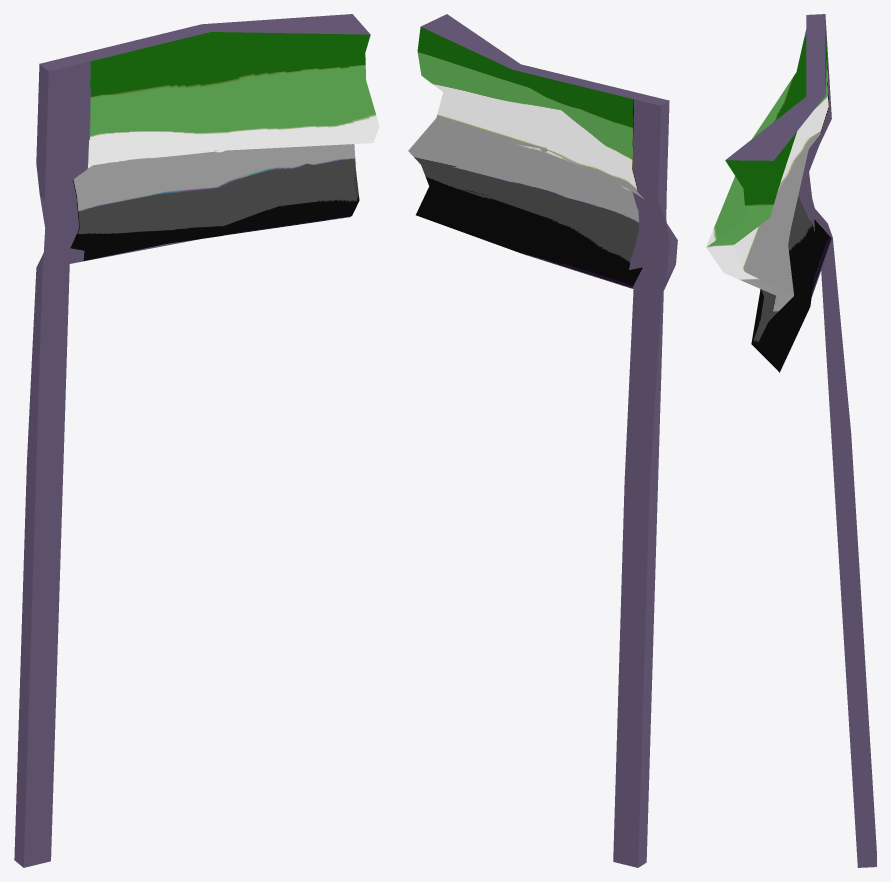
Rendered from aroprideflag.glb.
3 renders of one model, left to right at view 1: azimuth 30°, elevation 25°; view 2: azimuth 150°, elevation 25°; view 3: azimuth 270°, elevation 25°, orthographic. The views are drawn at different scales.
Parts seen in each view (by area): view 1: Cube; view 2: Cube; view 3: Cube.
Boxes of the visible parts, x1,y1,x2,y2 form: Cube: (14, 14, 379, 867); Cube: (408, 14, 677, 867); Cube: (706, 14, 876, 867).
Bounding box in the file's own units: 5.95 × 15.54 × 2.86.
1 material, 1 textured.
